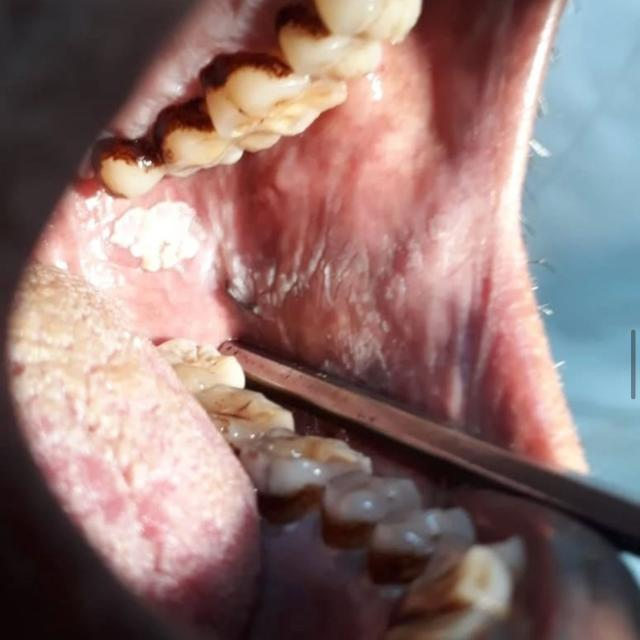leukoplakia-detection: (214, 181, 476, 383)
processing_area: (11, 47, 535, 585)
